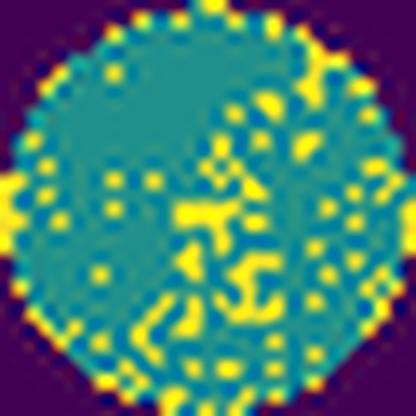Center: (165, 124, 289, 343)
